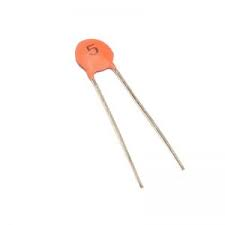ceramic capacitor: (59, 35, 157, 94)
